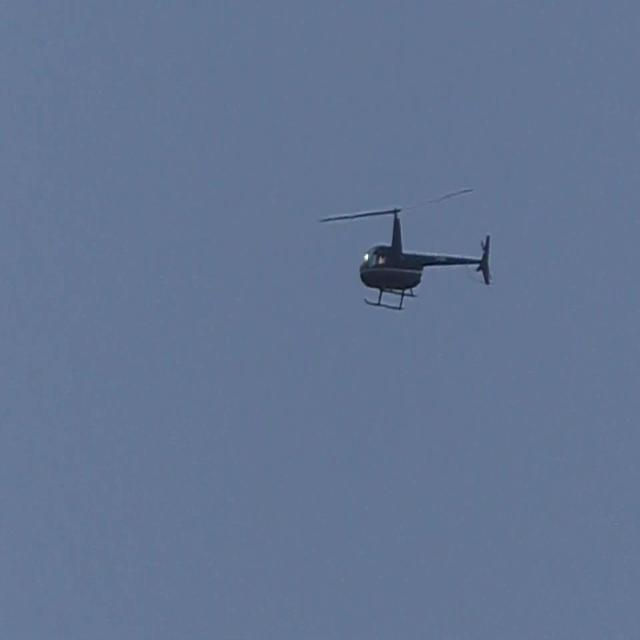CIV_HELO: (359, 207, 493, 311)
